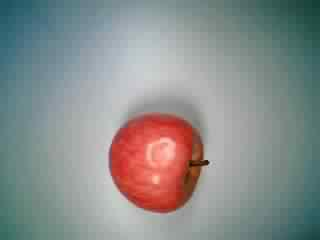apple: (106, 111, 213, 214)
